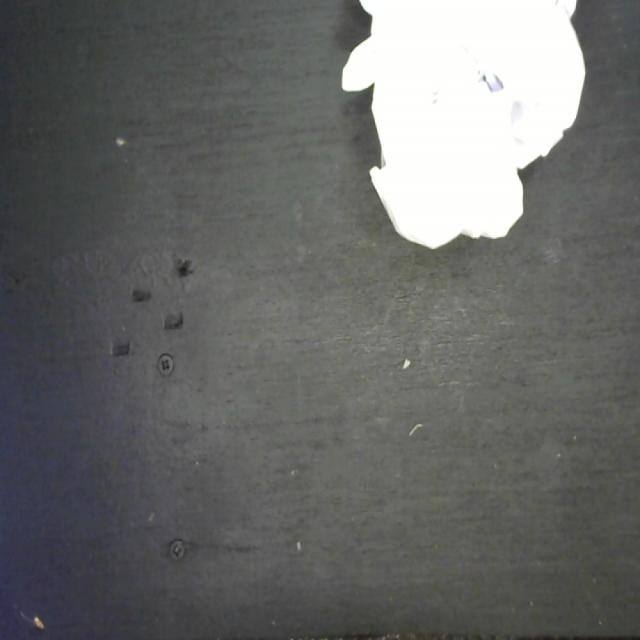biodegradable: (335, 0, 587, 254)
